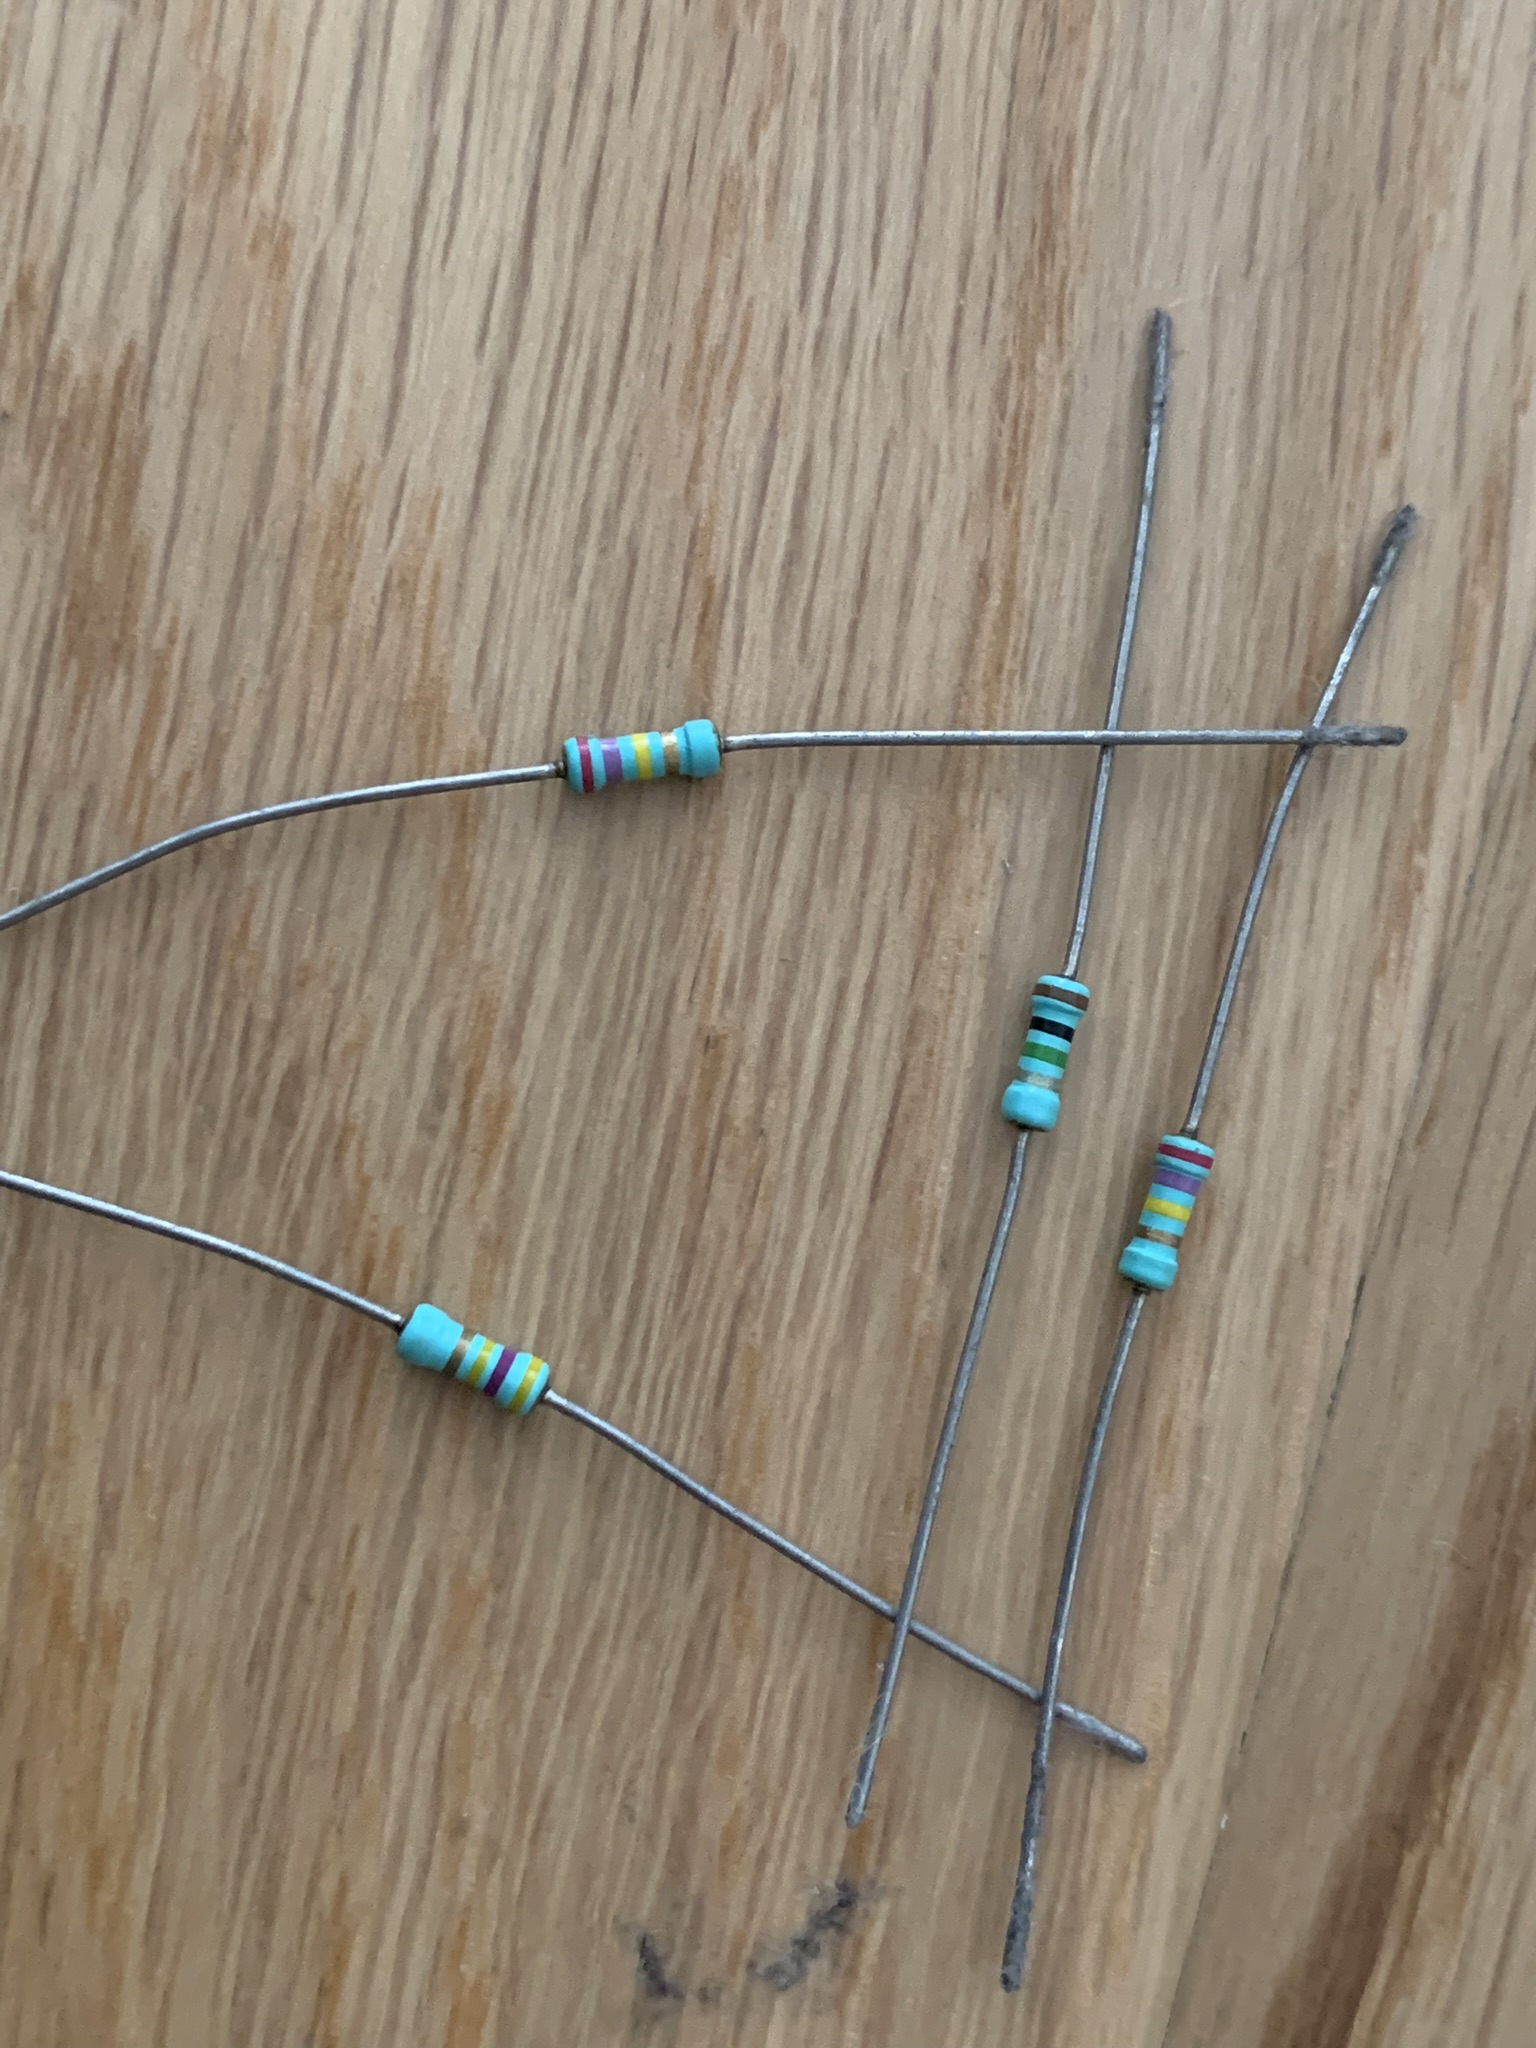resistor_thd: (394, 1305, 552, 1419), (1118, 1135, 1217, 1288), (1000, 976, 1092, 1135), (557, 719, 724, 797)
